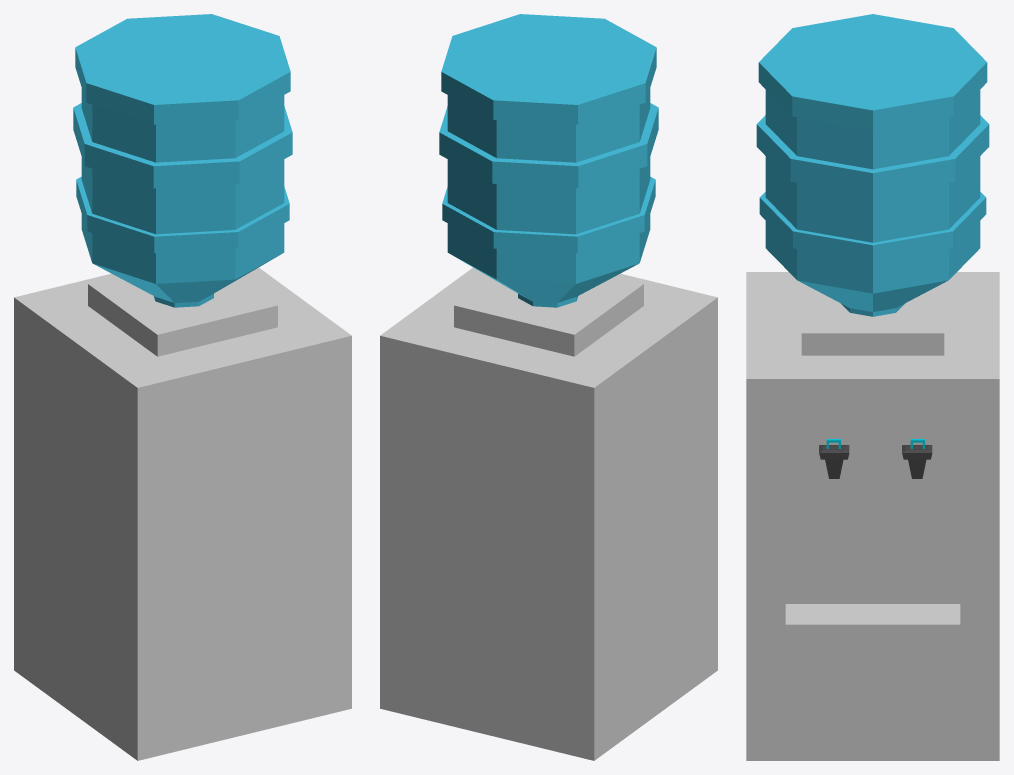
File: drinking spot.fbx
The picture shows the model from 3 angles, left to right: view 1: azimuth 30°, elevation 25°; view 2: azimuth 150°, elevation 25°; view 3: azimuth 270°, elevation 25°; orthographic projection. The views are drawn at different scales.
Visible parts, largest first — view 1: Cube, Cube.001; view 2: Cube, Cube.001; view 3: Cube, Cube.001, Cube.002.
Part boxes in pixels (x1=…): Cube: x1=14, y1=267, x2=351, y2=760; Cube.001: x1=73, y1=14, x2=292, y2=307; Cube: x1=380, y1=267, x2=717, y2=760; Cube.001: x1=439, y1=14, x2=658, y2=307; Cube: x1=746, y1=272, x2=999, y2=760; Cube.001: x1=756, y1=14, x2=989, y2=316; Cube.002: x1=819, y1=445, x2=932, y2=478.
Size of the model in its own units: 92.59 by 260 by 92.59.
